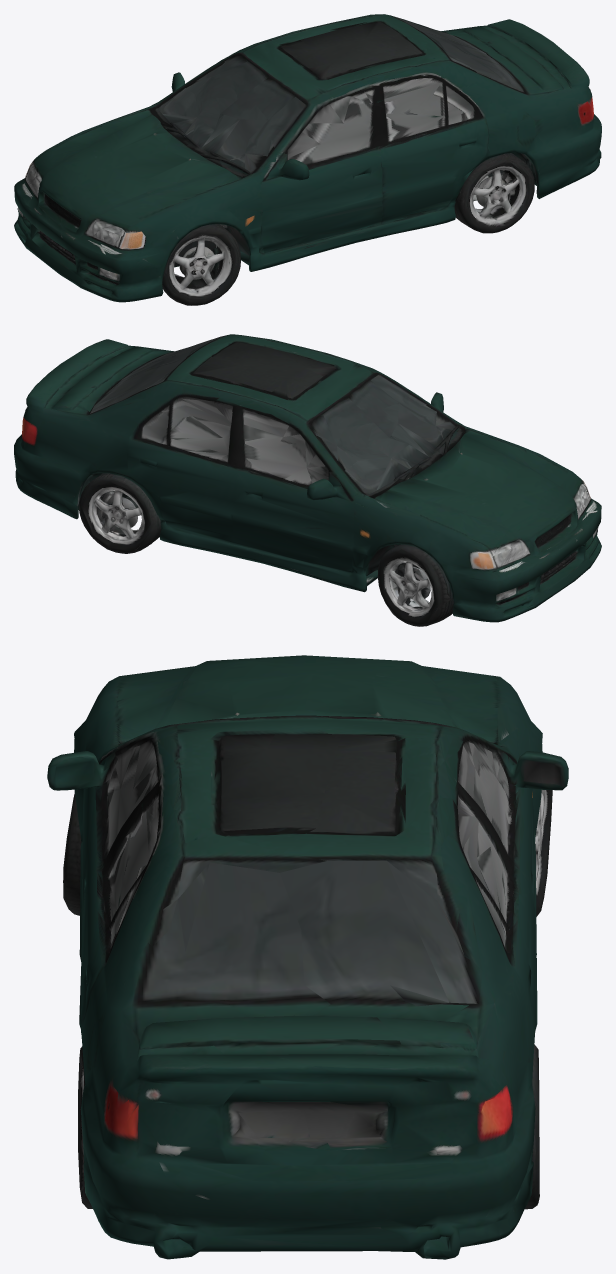
The model's file is green-sport.glb.
3 renders of one model, top to bottom at view 1: azimuth 30°, elevation 25°; view 2: azimuth 150°, elevation 25°; view 3: azimuth 270°, elevation 25°, orthographic. The views are drawn at different scales.
Visible parts, largest first — view 1: body, wheel-1-1, wheel--1-1; view 2: body, wheel-1--1, wheel--1--1; view 3: body, wheel--1-1, wheel--1--1, wheel-1--1, wheel-1-1.
Part boxes in pixels (box(x1,y1,x2,y2)): body: box(14, 14, 601, 302); wheel-1-1: box(451, 149, 539, 233); wheel--1-1: box(160, 220, 240, 305); body: box(14, 334, 601, 622); wheel-1--1: box(72, 465, 161, 553); wheel--1--1: box(377, 541, 463, 626); body: box(47, 655, 568, 1259); wheel--1-1: box(63, 734, 81, 915); wheel--1--1: box(535, 731, 552, 916); wheel-1--1: box(525, 1014, 539, 1209); wheel-1-1: box(78, 1023, 92, 1208).
Bounding box in the file's own units: 4.8 × 1.5 × 2.1.
1 material, 1 textured.
